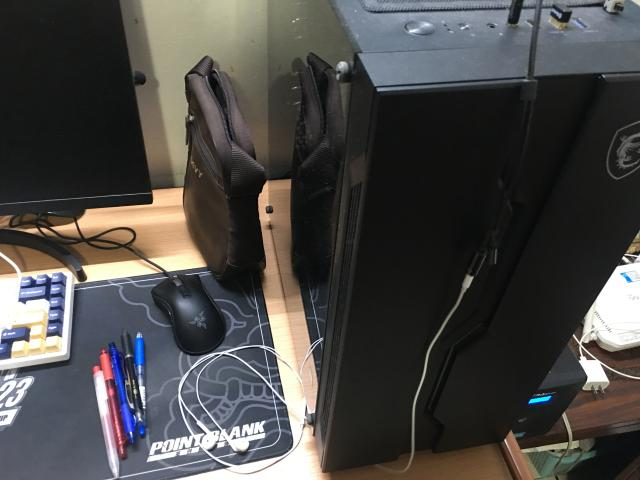Mouse: (151, 274, 226, 355)
Pen: (93, 325, 149, 477)
wire: (194, 418, 262, 460)
